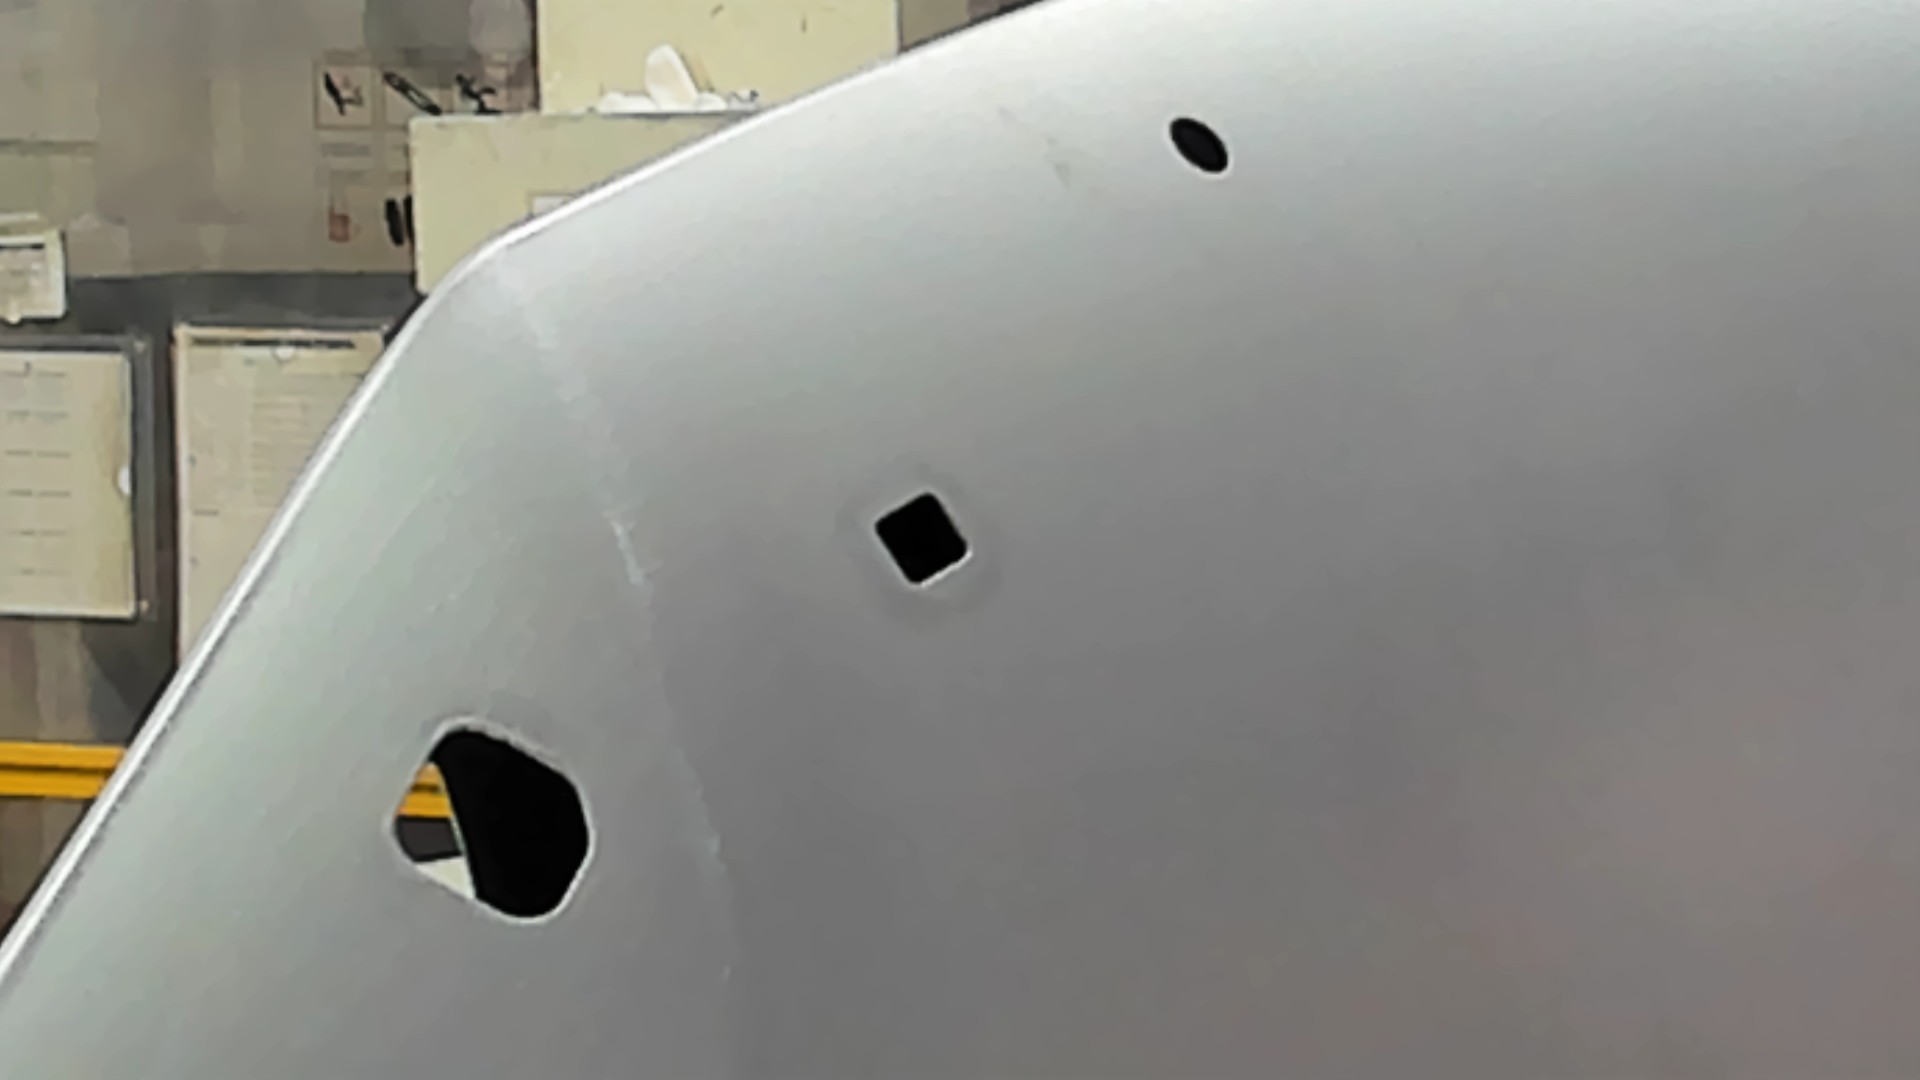chico: (1160, 113, 1234, 179)
grande: (384, 713, 597, 932)
mediano: (872, 487, 975, 587)
